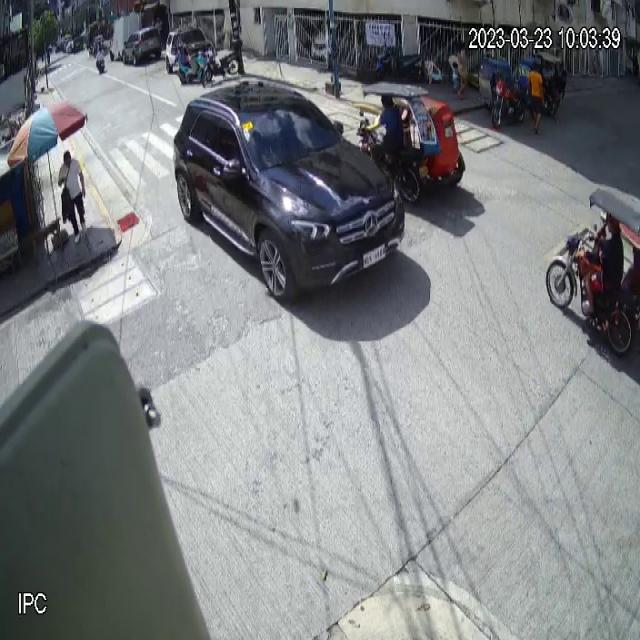Car: (174, 76, 408, 308)
Tricycle: (545, 186, 640, 354), (359, 81, 468, 208)
